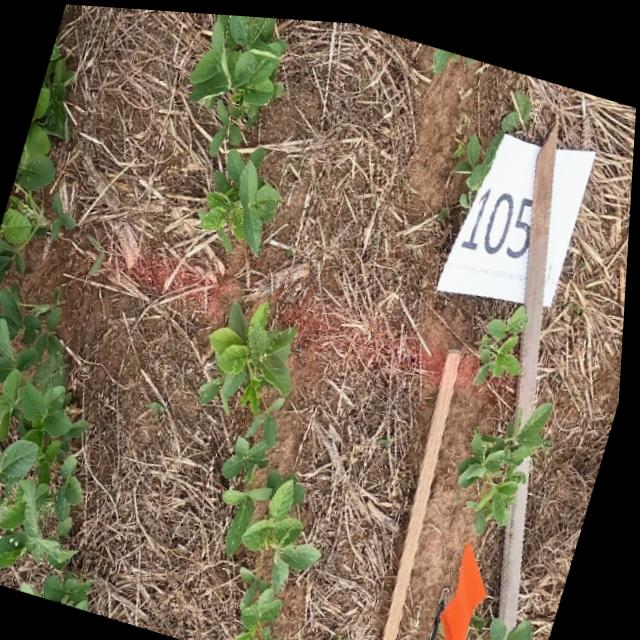caruru_weed: (338, 631, 354, 640)
soy_plant: (0, 44, 92, 568), (203, 300, 310, 549), (191, 11, 286, 249), (245, 475, 325, 640), (463, 395, 555, 525), (454, 85, 531, 207), (477, 299, 531, 378), (267, 517, 320, 574), (475, 608, 540, 640), (44, 572, 97, 608), (256, 601, 283, 640), (432, 42, 461, 67)
